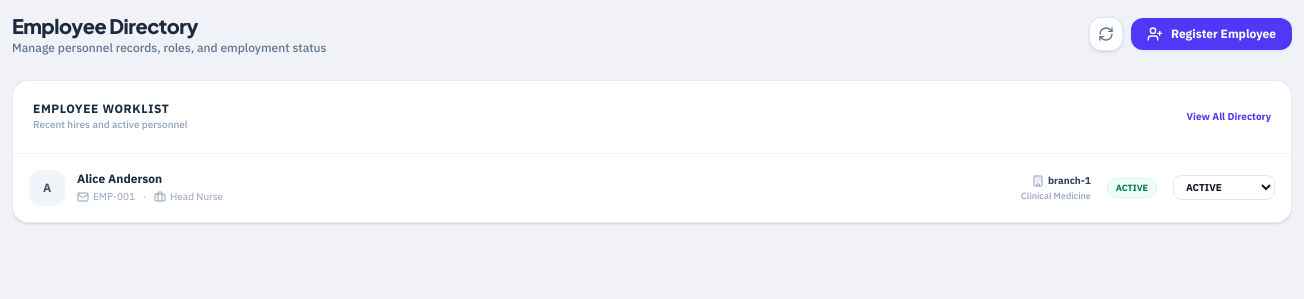
Test case: EmployeesPage — employee status-toggle (live wire) › surfaces backend rejection inline (no window.alert) and keeps the row editable
Step 1. Select "TERMINATED" in the dropdown with test id "employees-status-select-emp-1" → {"x": 1224, "y": 188}, box [1173,176,1275,200]
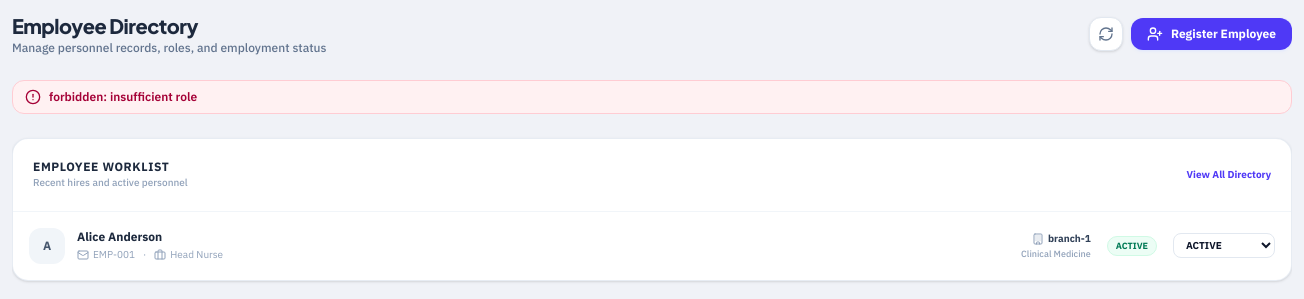
Expected: the dropdown with test id "employees-status-select-emp-1" is enabled, [1173,234,1275,258]
Expected: the message with test id "employees-status-error" shows "forbidden", [49,89,197,104]
